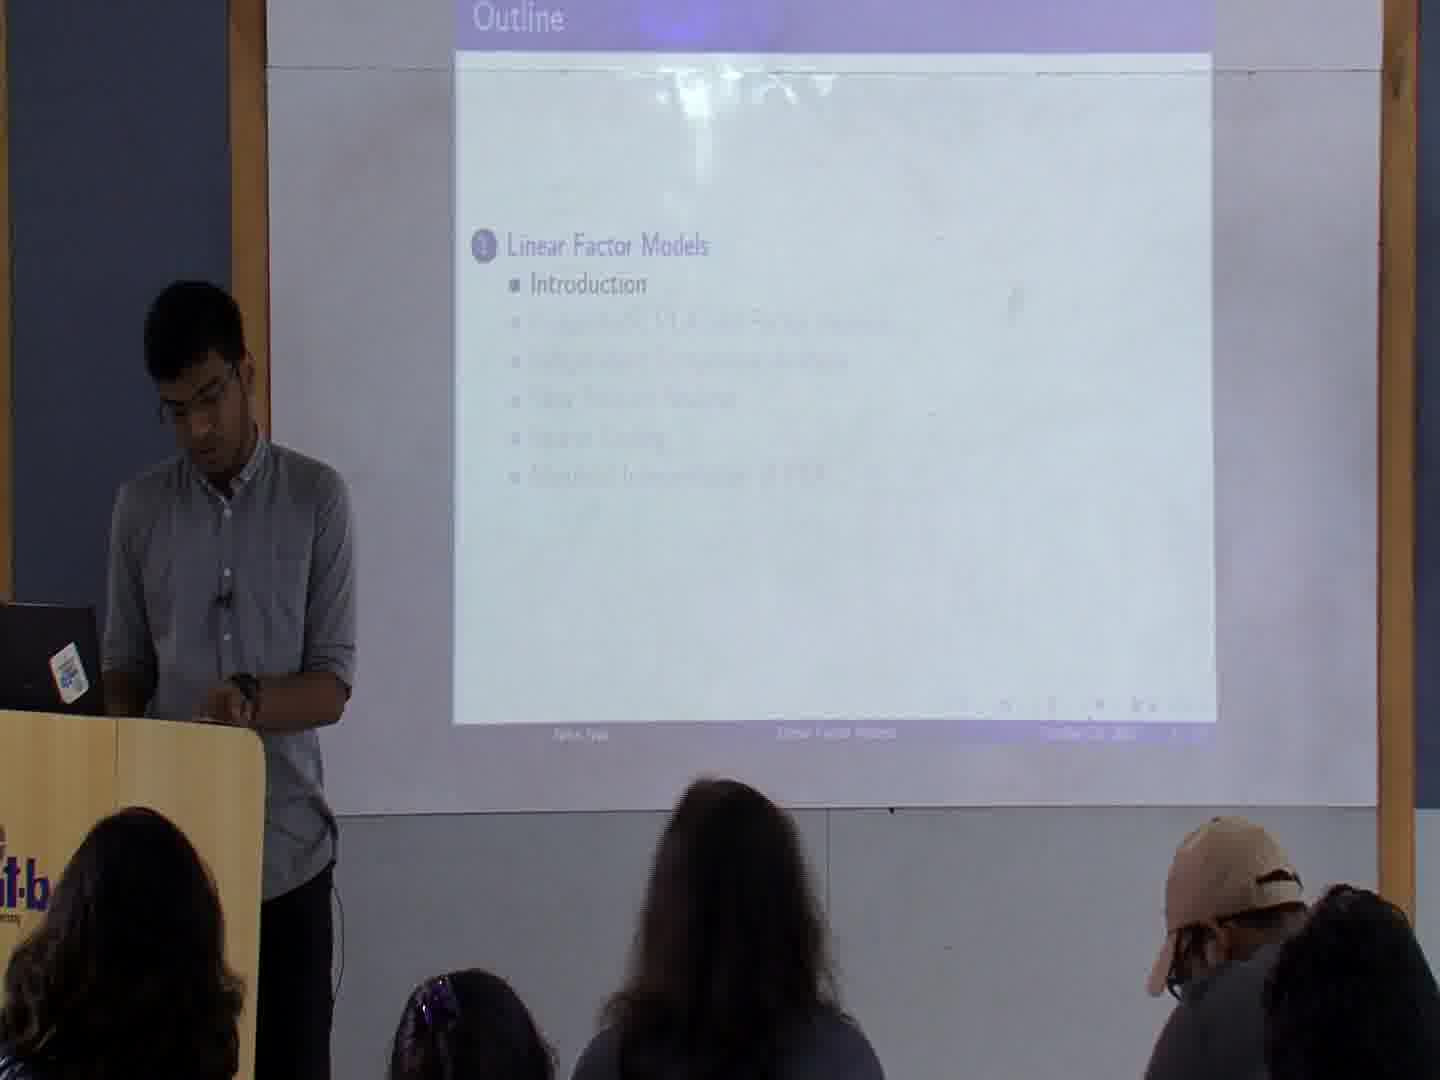slide: (452, 5, 1215, 741)
